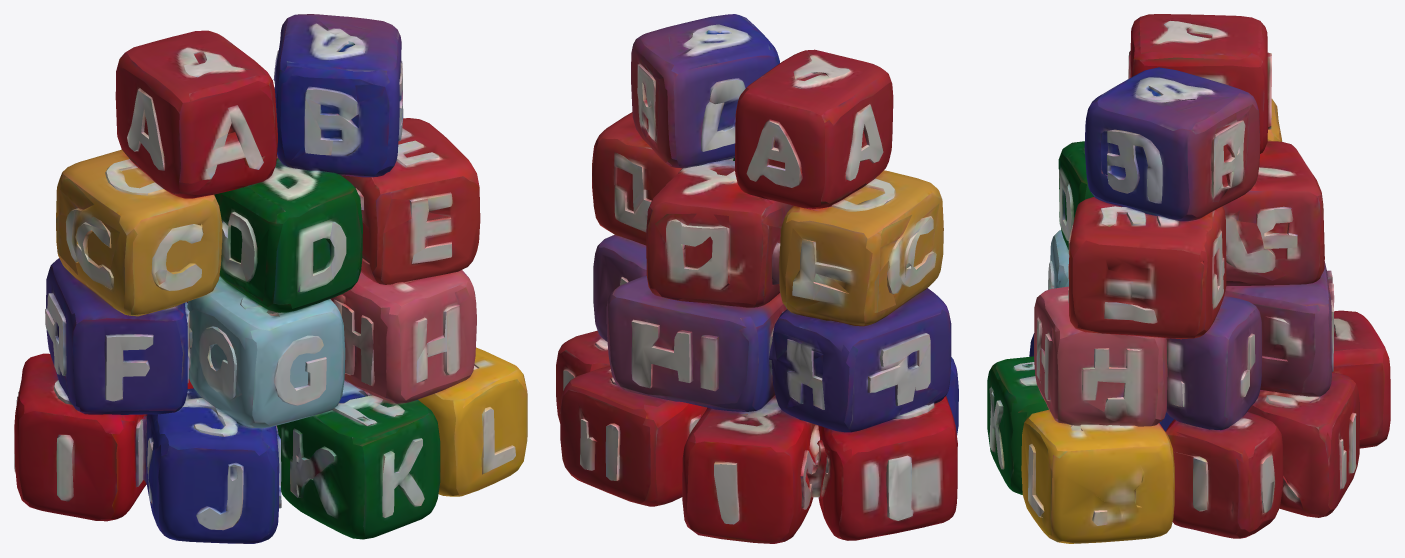
The model's file is x-blocks.glb.
3 views of the same model, side by side, from view 1: azimuth 30°, elevation 25°; view 2: azimuth 150°, elevation 25°; view 3: azimuth 270°, elevation 25° (orthographic). The views are drawn at different scales.
Parts seen in each view (by area): view 1: geometry_0; view 2: geometry_0; view 3: geometry_0.
Part boxes in pixels (x1,y1,x2,y2): geometry_0: (14, 14, 527, 543); geometry_0: (556, 14, 958, 543); geometry_0: (987, 14, 1390, 543).
Bounding box in the file's own units: 0.05 × 0.0481 × 0.0437.
Materials: 1 (1 with a texture image).
